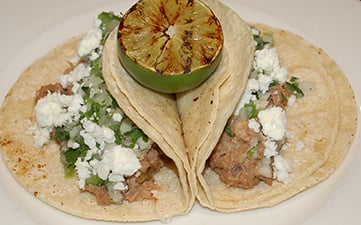curry: (0, 0, 356, 219)
